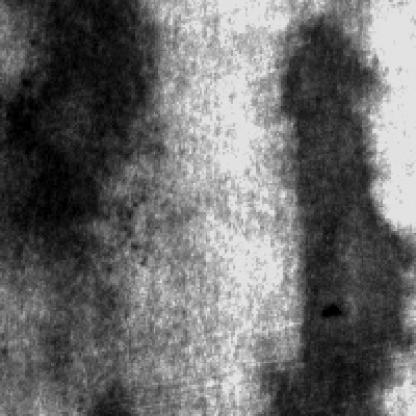patches: (279, 21, 412, 416), (10, 6, 146, 278)
